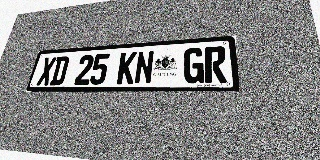2: (74, 54, 95, 85)
5: (89, 53, 110, 85)
D: (49, 56, 70, 85)
G: (183, 47, 204, 83)
K: (116, 52, 137, 84)
N: (134, 50, 155, 84)
R: (205, 46, 227, 83)
X: (36, 57, 57, 86)
